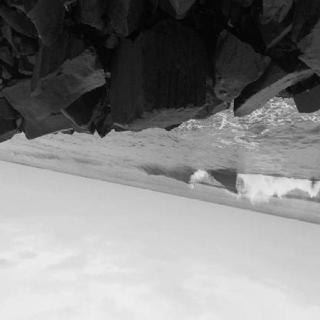other: (236, 172, 317, 212)
